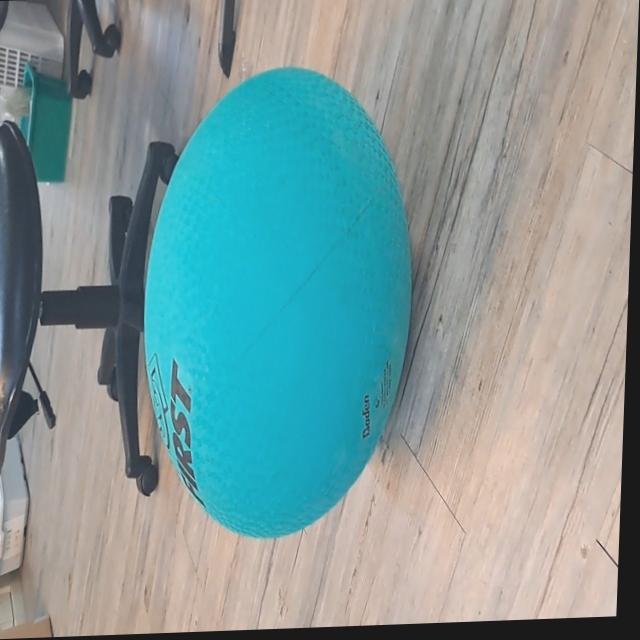ALGAE: (133, 60, 422, 546)
